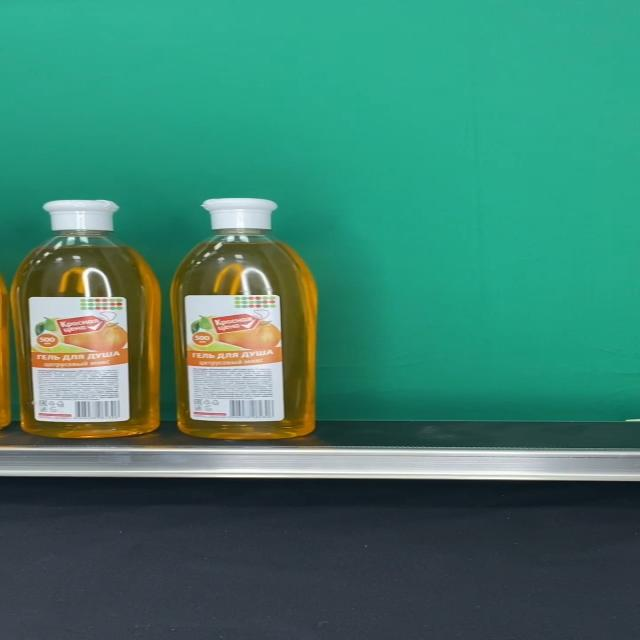Bottle: (12, 199, 161, 437), (171, 196, 317, 438)
Cap: (201, 197, 278, 229), (43, 199, 120, 231)
